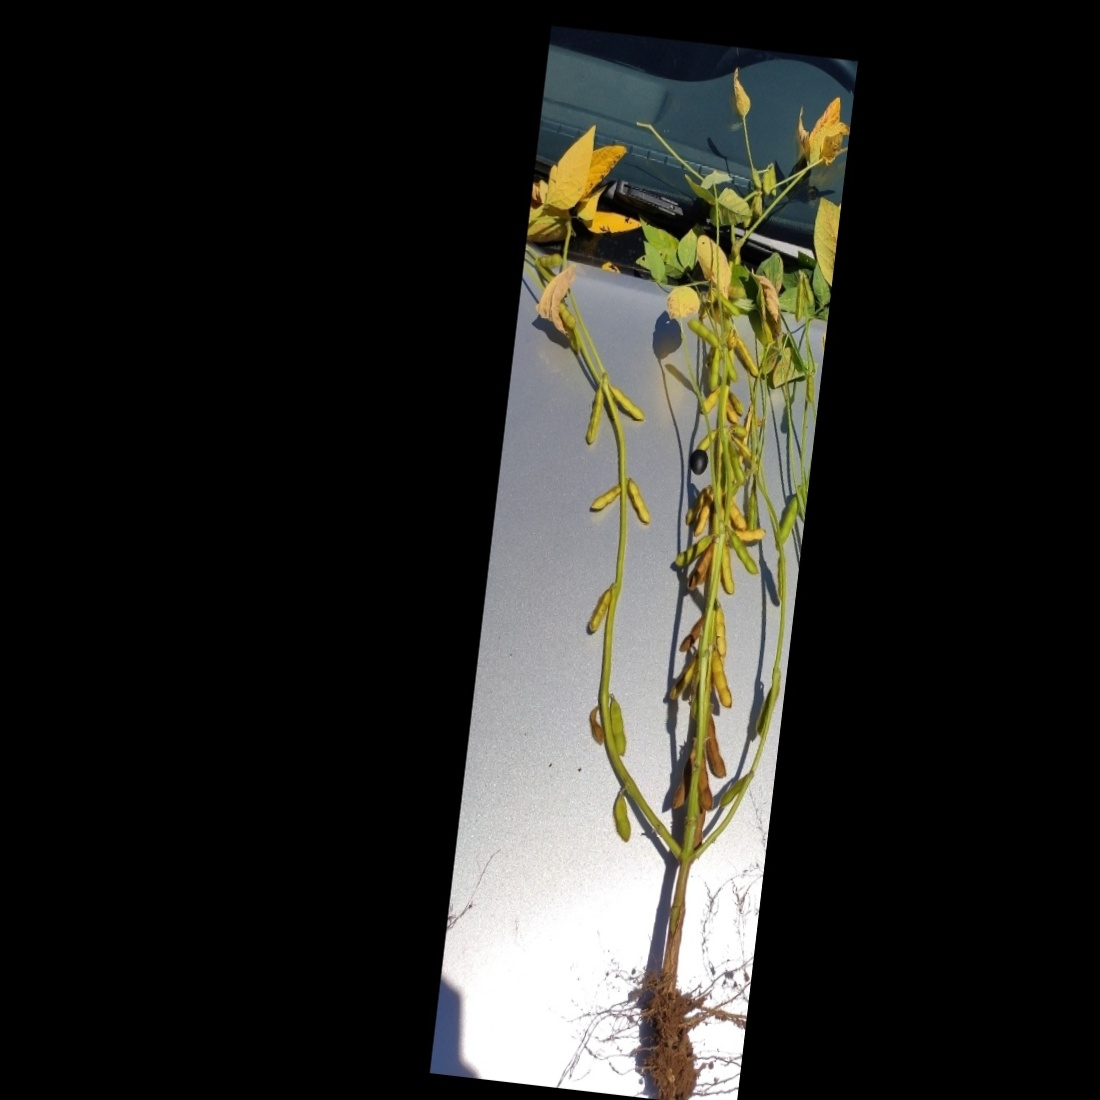pod: (716, 522, 764, 578), (698, 707, 733, 781), (599, 379, 650, 424), (670, 528, 714, 572), (580, 382, 607, 448), (706, 649, 736, 708), (605, 694, 634, 758), (730, 331, 765, 380), (694, 746, 718, 814), (584, 582, 613, 638), (622, 474, 656, 521), (609, 790, 637, 846), (721, 437, 750, 490), (717, 767, 748, 812), (715, 542, 740, 597), (682, 316, 724, 349), (776, 493, 800, 545), (711, 602, 732, 660), (693, 489, 716, 539), (721, 496, 750, 532), (589, 483, 621, 515), (706, 348, 724, 393), (789, 280, 807, 325), (535, 247, 564, 273), (554, 305, 580, 332), (805, 372, 817, 407)
soy: (447, 75, 849, 1076)
